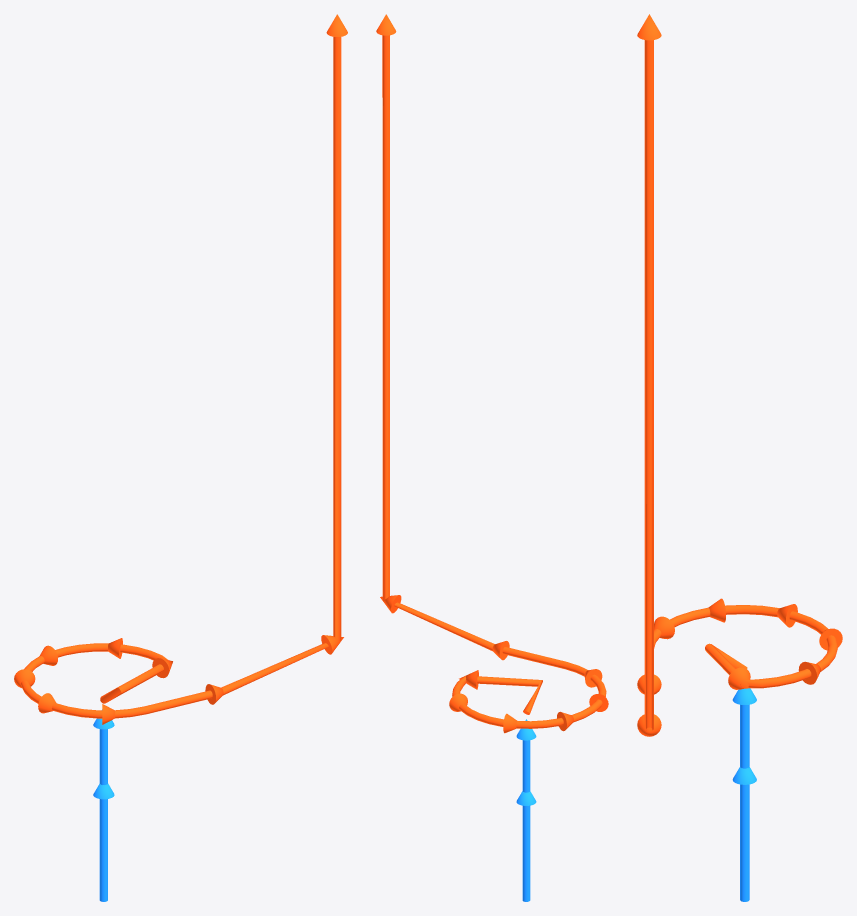
Rendered from submersible_sewage_pump_flow.glb.
The picture shows the model from 3 angles, left to right: view 1: azimuth 30°, elevation 25°; view 2: azimuth 150°, elevation 25°; view 3: azimuth 270°, elevation 25°; orthographic projection. The views are drawn at different scales.
Parts seen in each view (by area): view 1: flow_discharge, flow_suction; view 2: flow_discharge, flow_suction; view 3: flow_discharge, flow_suction.
Boxes of the visible parts, x1,y1,x2,y2 form: flow_discharge: [14, 14, 347, 724]; flow_suction: [93, 709, 114, 901]; flow_discharge: [376, 14, 608, 733]; flow_suction: [516, 719, 536, 901]; flow_discharge: [637, 14, 842, 736]; flow_suction: [732, 688, 756, 901].
Size of the model in its own units: 0.6232 by 1.87 by 0.3502.
